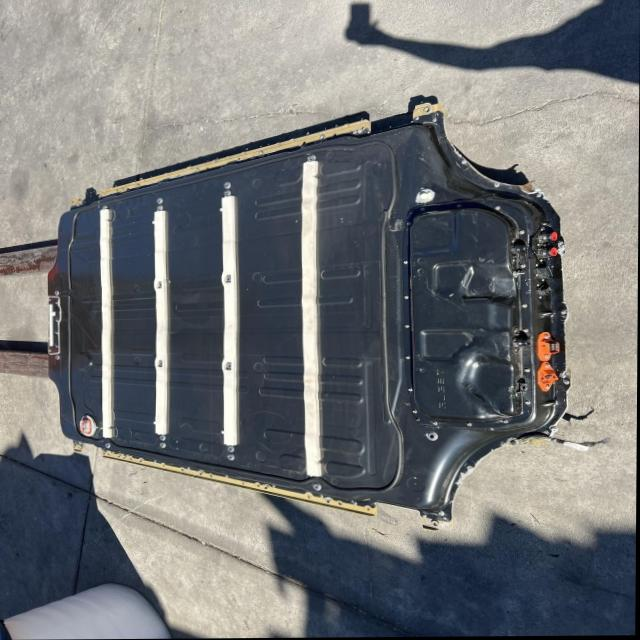Bolt: (407, 190, 444, 201), (400, 219, 419, 231), (426, 431, 441, 444), (404, 350, 416, 362), (404, 294, 418, 304), (520, 300, 535, 309), (398, 259, 412, 268), (429, 419, 443, 428), (519, 227, 530, 237), (465, 420, 477, 429), (494, 204, 506, 213), (518, 329, 531, 337), (401, 323, 414, 331), (411, 408, 422, 417), (406, 386, 419, 393), (523, 365, 532, 375), (522, 400, 534, 407), (521, 264, 533, 270), (421, 207, 430, 214), (454, 203, 464, 209)
Nut: (507, 271, 528, 283)
Screw: (214, 179, 247, 190), (45, 284, 70, 296), (221, 271, 237, 287), (152, 358, 171, 371), (220, 361, 240, 373), (310, 479, 328, 492), (301, 154, 319, 167), (99, 202, 119, 212), (220, 190, 241, 199), (155, 443, 177, 451), (220, 444, 244, 451), (100, 441, 121, 449), (52, 353, 73, 361), (155, 205, 171, 214), (151, 198, 170, 205), (158, 434, 175, 440), (227, 452, 236, 462)
